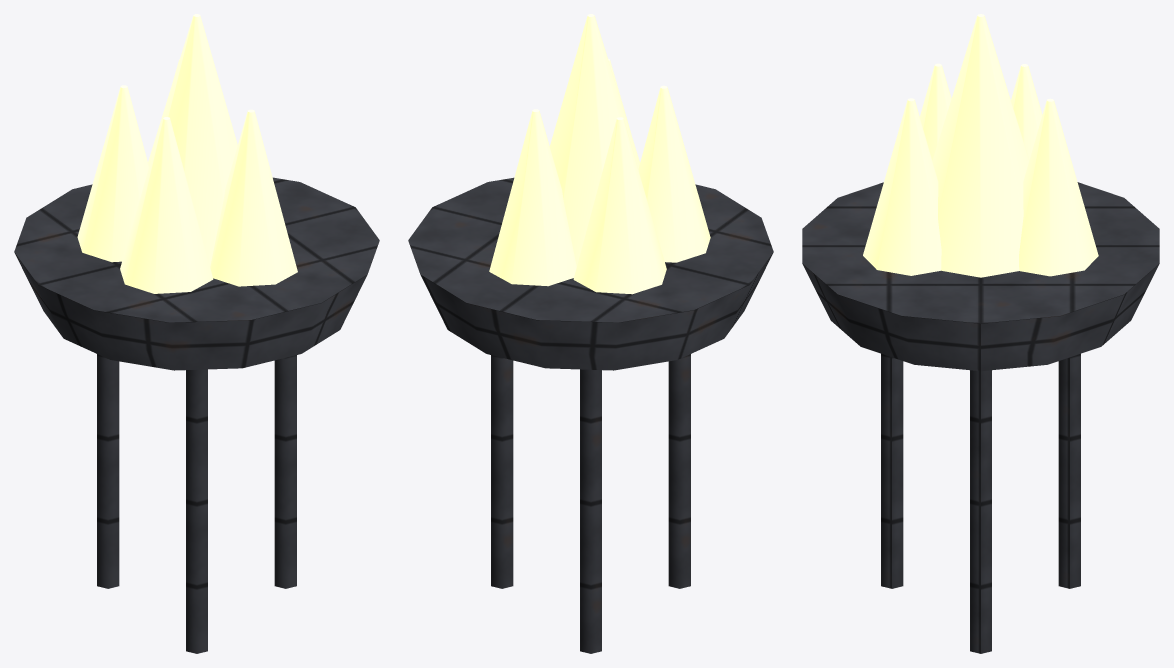
The model's file is brazier.glb.
3 renders of one model, left to right at view 1: azimuth 30°, elevation 25°; view 2: azimuth 150°, elevation 25°; view 3: azimuth 270°, elevation 25°, orthographic.
Parts seen in each view (by area): view 1: brazier; view 2: brazier; view 3: brazier.
Boxes of the visible parts, x1=… form: brazier: x1=14, y1=14, x2=379, y2=653; brazier: x1=408, y1=14, x2=773, y2=653; brazier: x1=802, y1=14, x2=1159, y2=653.
Bounding box in the file's own units: 1 × 1.77 × 0.9749.
2 materials, 1 textured.
